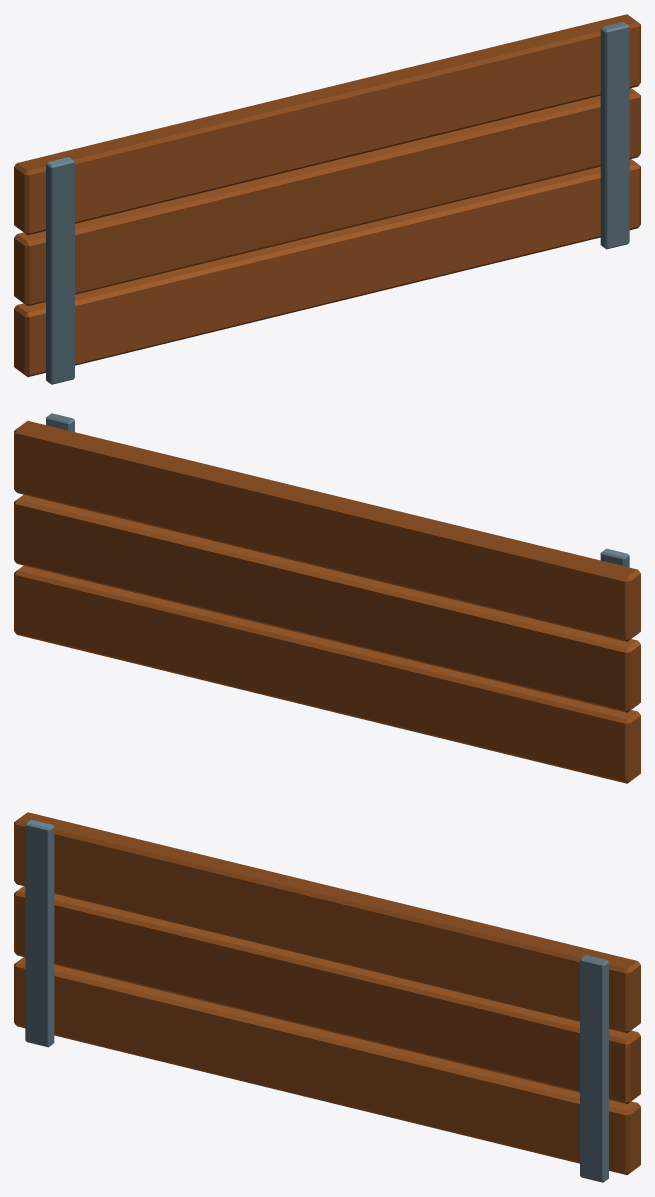
File: D18_Cart_Side.fbx
The picture shows the model from 3 angles, top to bottom: view 1: azimuth 30°, elevation 25°; view 2: azimuth 150°, elevation 25°; view 3: azimuth 330°, elevation 25°; orthographic projection.
Parts seen in each view (by area): view 1: D18_Cart_Side; view 2: D18_Cart_Side; view 3: D18_Cart_Side.
Part boxes in pixels (x1,y1,x2,y2): D18_Cart_Side: [14, 14, 640, 384]; D18_Cart_Side: [14, 413, 640, 783]; D18_Cart_Side: [14, 812, 640, 1182].
Bounding box in the file's own units: 2 × 0.68 × 0.115.
Materials: 2 (2 with a texture image).
